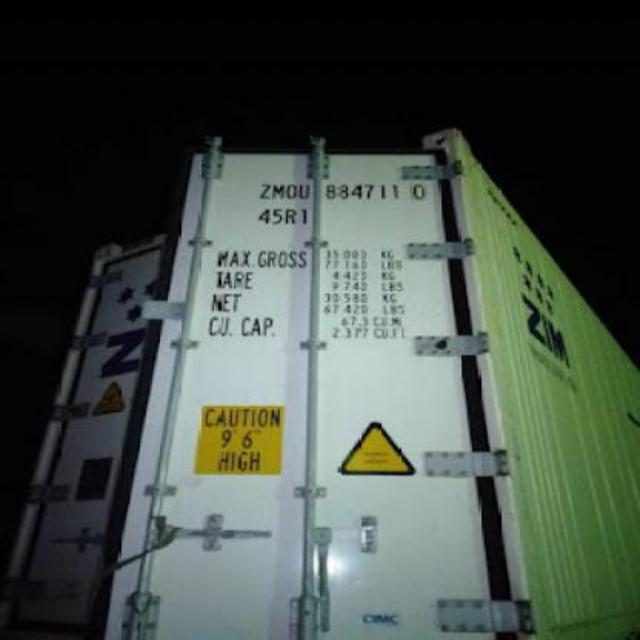0: (410, 183, 426, 201)
1: (392, 182, 404, 202), (378, 182, 388, 200)
4: (352, 185, 364, 198)
7: (364, 182, 376, 198)
8: (326, 180, 338, 198), (338, 183, 350, 201)
M: (272, 182, 288, 198)
O: (288, 183, 298, 199)
U: (298, 183, 312, 199)
Z: (260, 182, 270, 198)
